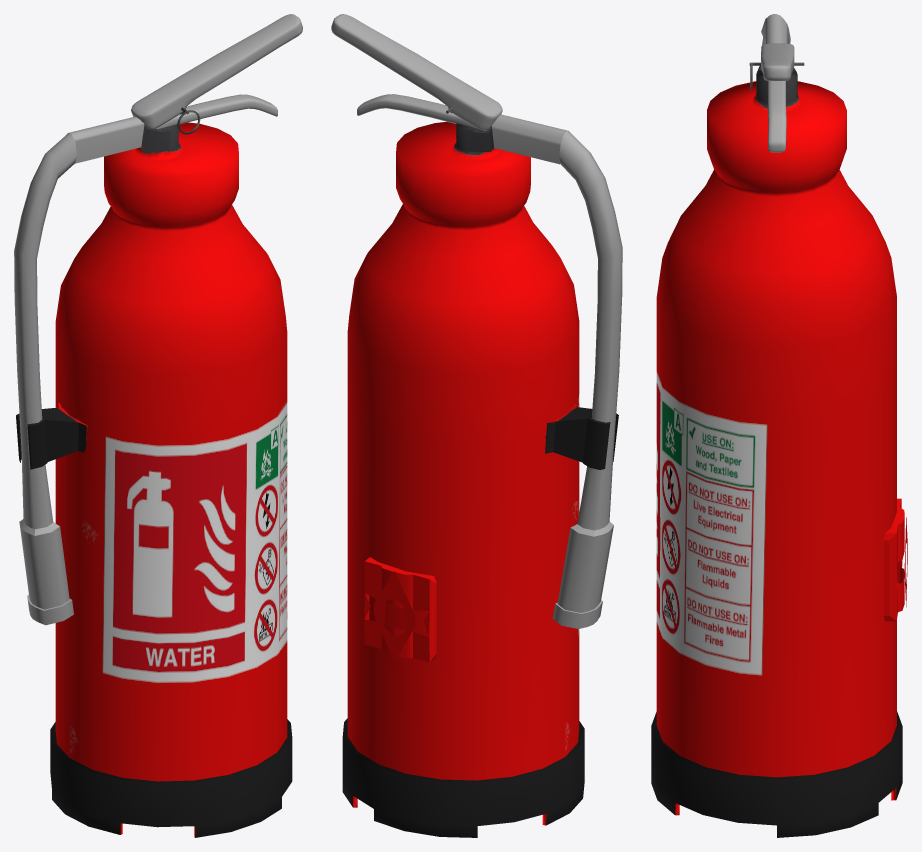
File: WaterFireExtinguisher.fbx
3 views of the same model, side by side, from view 1: azimuth 30°, elevation 25°; view 2: azimuth 150°, elevation 25°; view 3: azimuth 270°, elevation 25° (orthographic). The views are drawn at different scales.
Visible parts, largest first — view 1: fire_exinguisher; view 2: fire_exinguisher; view 3: fire_exinguisher.
Boxes of the visible parts, <box> form: fire_exinguisher: <box>14,14,302,837</box>; fire_exinguisher: <box>331,14,622,837</box>; fire_exinguisher: <box>651,14,907,837</box>.
Size of the model in its own units: 0.4842 by 1.21 by 0.3593.
Materials: 2 (1 with a texture image).
